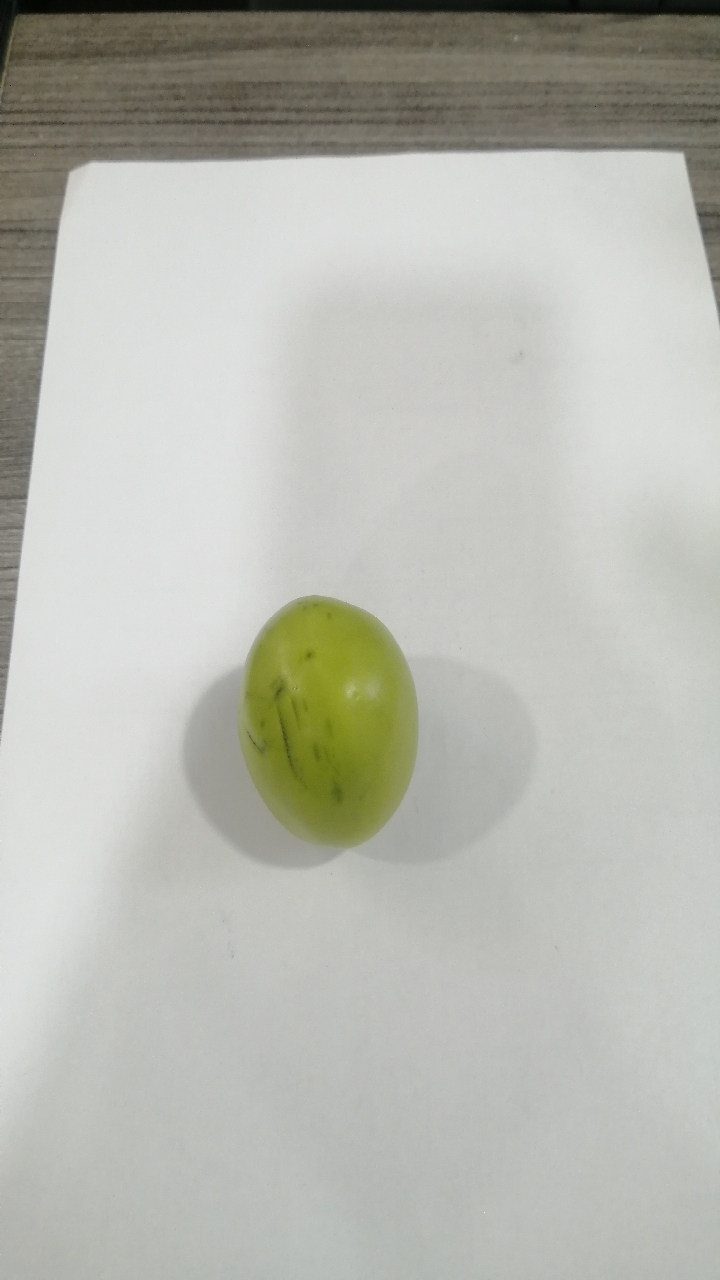tomateVerde: (215, 580, 444, 866)
